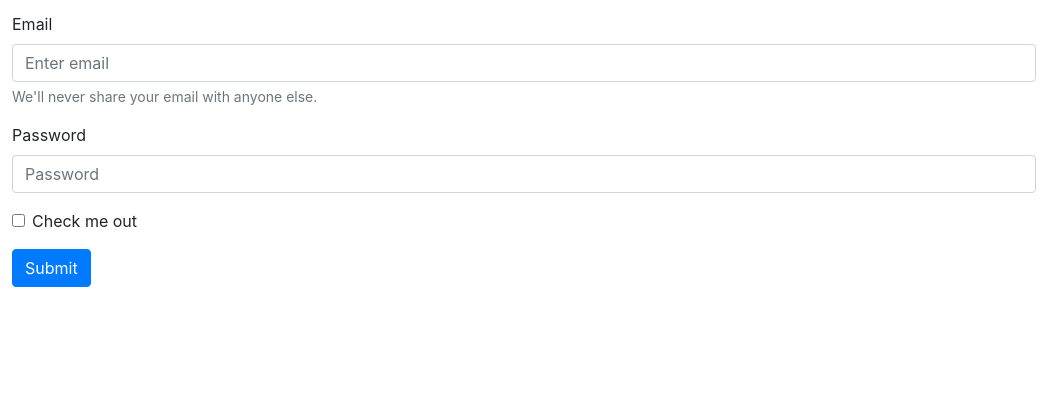
Actions › .type() - type into a DOM element
Type "fake@email.com" into the field with id "email". click: (524, 63)
box: 12,44 -> 1036,82
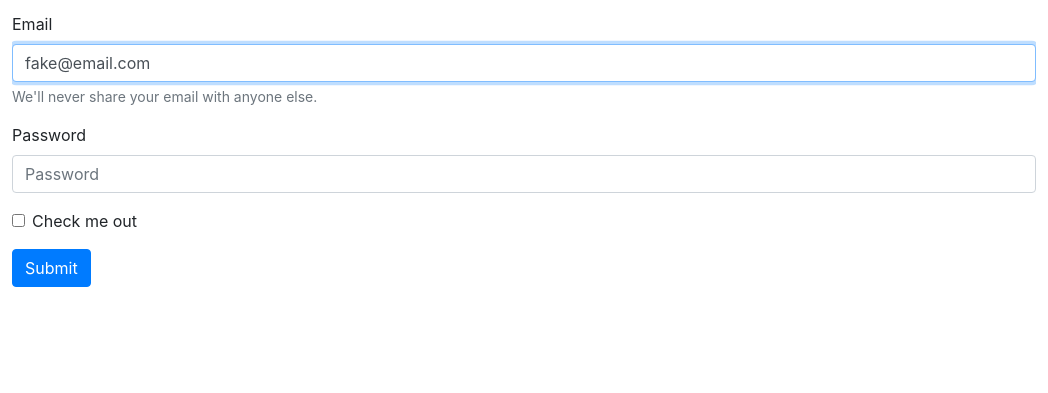
Type "123456" into the password field with placeholder "Password". click: (524, 174)
box: 12,155 -> 1036,193
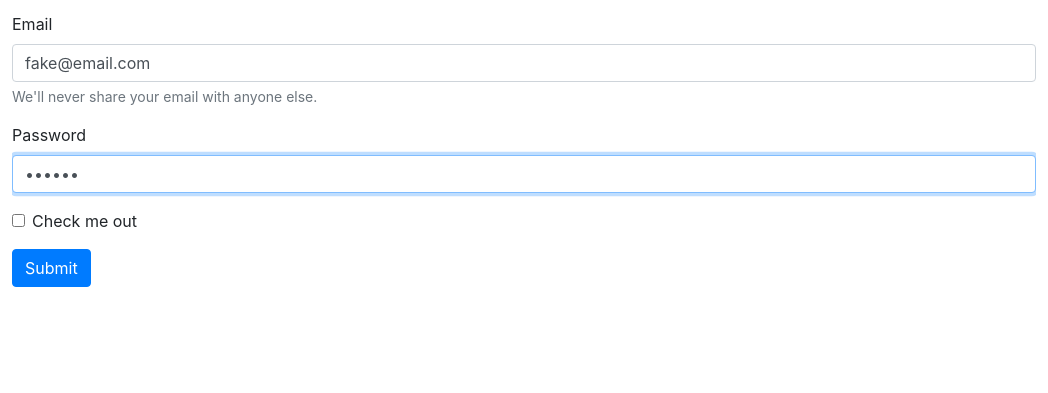
Click the checkbox with id "checkbox". click: (19, 221)
box: 12,214 -> 25,227
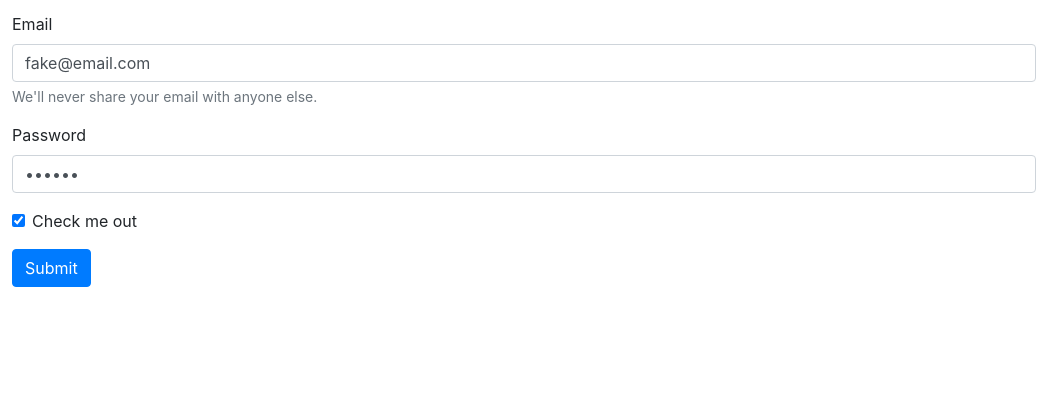
Click the button with id "submit". click: (52, 268)
box: 12,249 -> 91,287
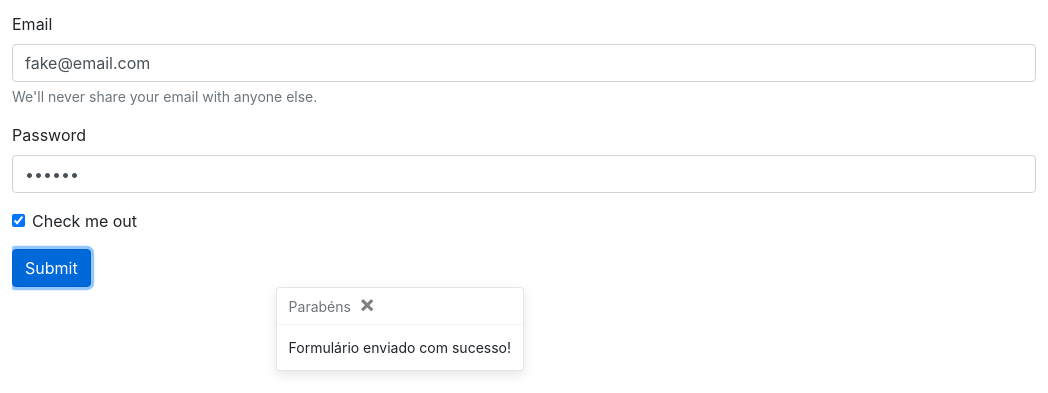
Check: the element with id "toast-title" shows "Parabéns", box 289,298 -> 351,315
Check: the text with id "toast-message" reads "Formulário enviado com sucesso!", box 289,339 -> 511,356
Click the button "×". click: (367, 304)
box: 359,292 -> 375,316
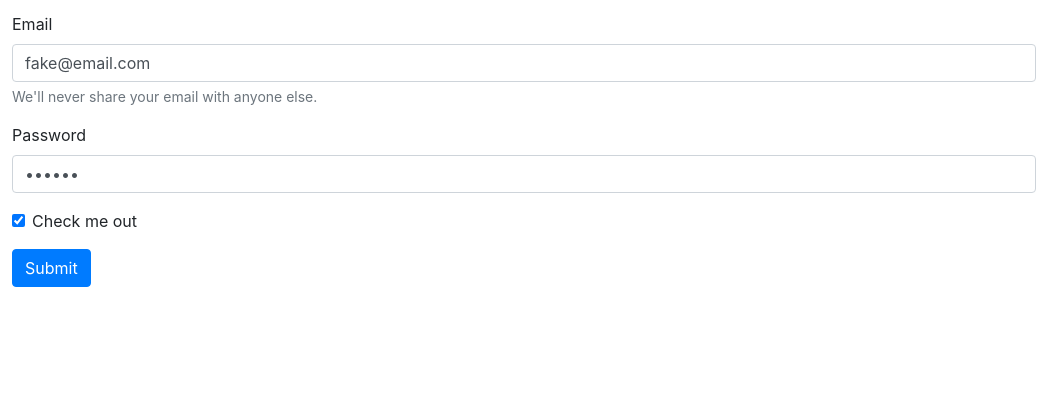
Check: the button "#toast" is gone
